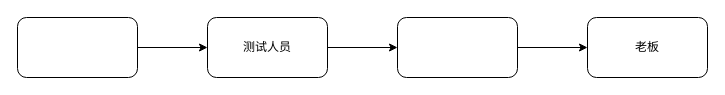
This 725x95 diagram has some shape labels left out. The box of each missing label's shape, as (x1, y1, x2, y2) in pixels:
技术总监: (396, 16, 518, 78)
程序员: (16, 16, 138, 78)
